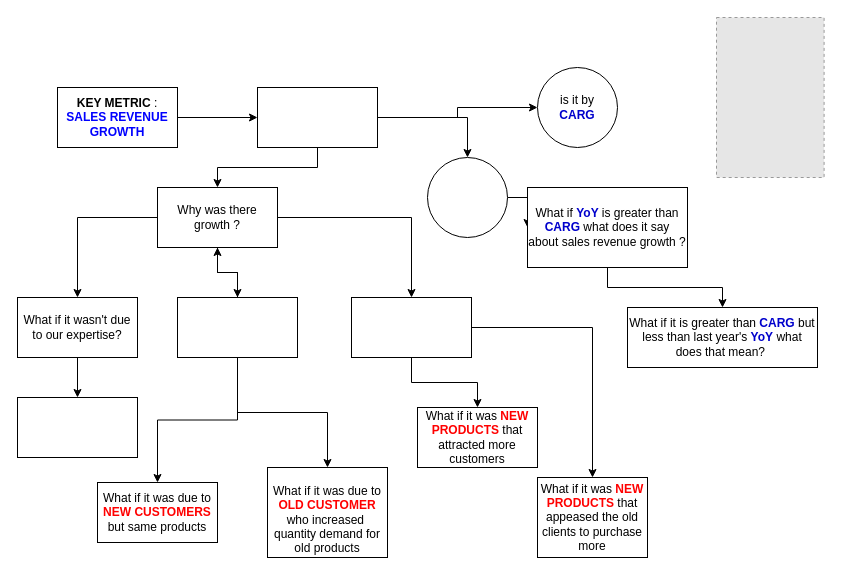
The diagram is 842 pixels wide and 575 high, and some of its shapes have lost their labels. Grey dashed boxes stand in for pictures. Each missing label, with the centre of its shape:
How best can we measure sales revenue's growth: point (317, 117)
How can we tell it was due to our own strategies: point (77, 427)
is it by YoY: point (467, 197)
What if the growth was because of CUSTOMERS: point (237, 327)
What if the growth was because of PRODUCTS: point (411, 327)
